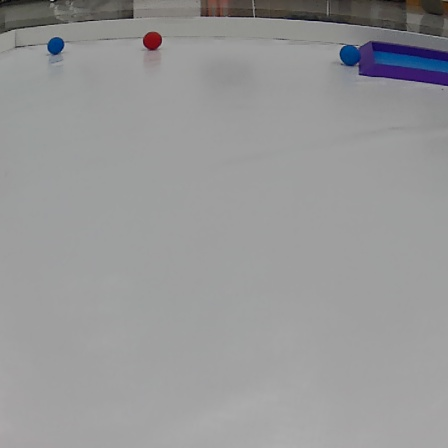blue: (340, 46, 361, 69), (46, 37, 66, 55)
blue_aim: (356, 39, 448, 84)
red: (142, 31, 163, 50)
